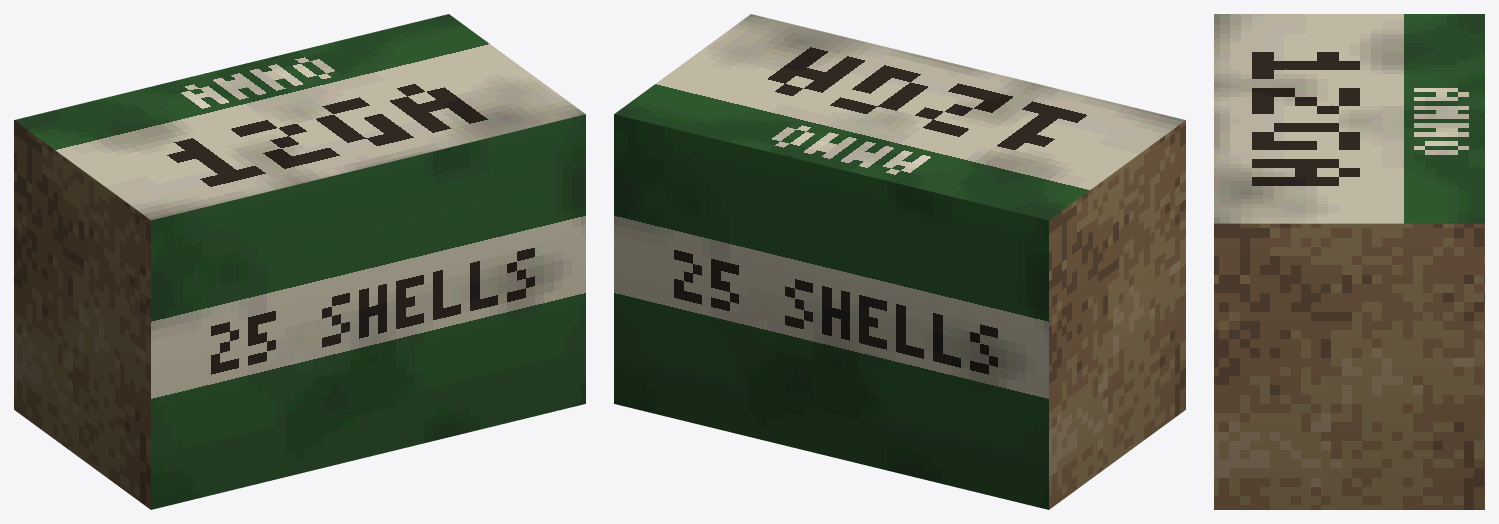
Rendered from ammo_12ga.glb.
The picture shows the model from 3 angles, left to right: view 1: azimuth 30°, elevation 25°; view 2: azimuth 150°, elevation 25°; view 3: azimuth 270°, elevation 25°; orthographic projection.
Visible parts, largest first — view 1: ammo_12ga; view 2: ammo_12ga; view 3: ammo_12ga.
Part boxes in pixels (left/top/right/bottom): ammo_12ga: left=14, top=14, right=585, bottom=509; ammo_12ga: left=614, top=14, right=1185, bottom=509; ammo_12ga: left=1214, top=14, right=1484, bottom=509.
Size of the model in its own units: 0.11 by 0.07 by 0.06.
Materials: 1 (1 with a texture image).
